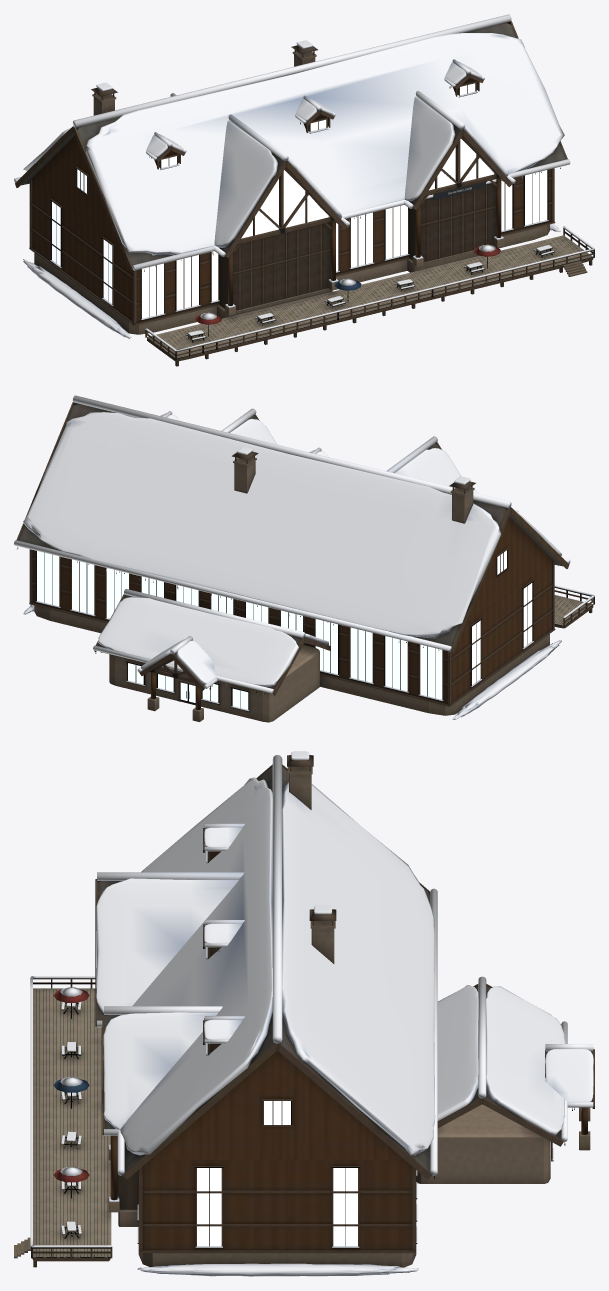
File: snow_park_lodge.glb
The picture shows the model from 3 angles, top to bottom: view 1: azimuth 30°, elevation 25°; view 2: azimuth 150°, elevation 25°; view 3: azimuth 270°, elevation 25°; orthographic projection. The views are drawn at different scales.
Visible parts, largest first — view 1: snow_park_lodge_snow, snow_park_lodge, snow_park_lodge_lit; view 2: snow_park_lodge_snow, snow_park_lodge, snow_park_lodge_lit; view 3: snow_park_lodge_snow, snow_park_lodge, snow_park_lodge_lit.
Part boxes in pixels (left/top/right/bottom): snow_park_lodge_snow: left=14, top=14, right=594, bottom=351; snow_park_lodge: left=15, top=21, right=594, bottom=366; snow_park_lodge_lit: left=52, top=83, right=547, bottom=318; snow_park_lodge_snow: left=14, top=395, right=594, bottom=719; snow_park_lodge: left=16, top=402, right=594, bottom=722; snow_park_lodge_lit: left=37, top=550, right=532, bottom=709; snow_park_lodge_snow: left=30, top=751, right=593, bottom=1276; snow_park_lodge: left=14, top=755, right=594, bottom=1267; snow_park_lodge_lit: left=197, top=1101, right=357, bottom=1246.
Size of the model in its own units: 59.71 by 25.86 by 51.06.
Materials: 4 (1 with a texture image).
